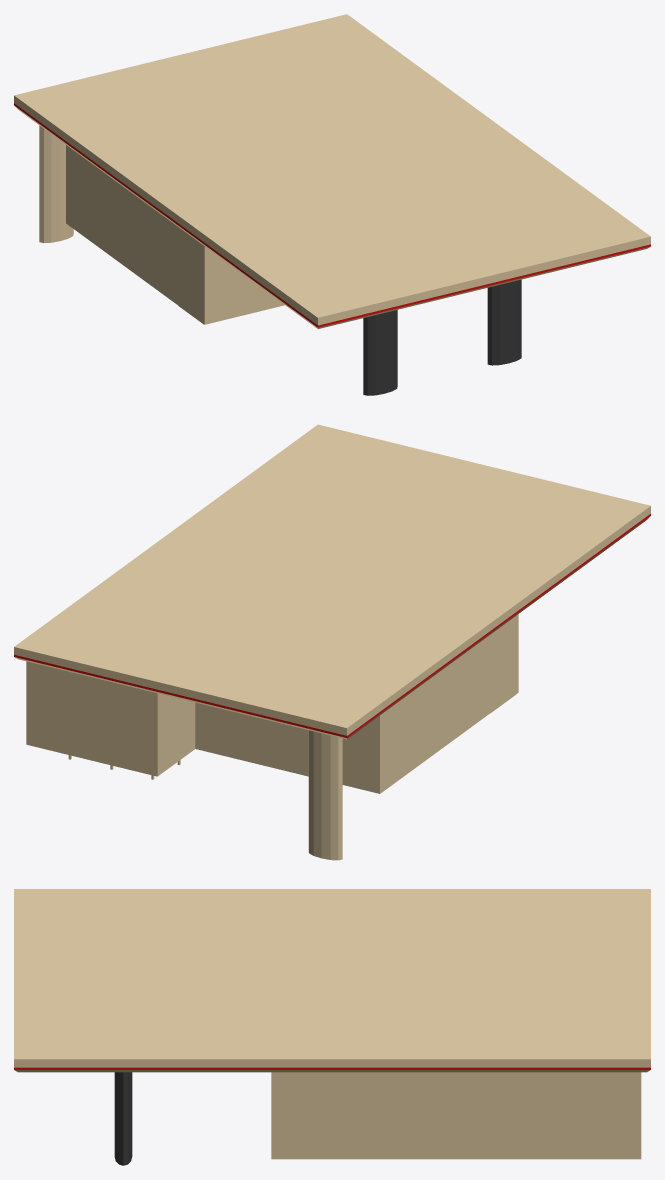
The model's file is station.glb.
3 renders of one model, top to bottom at view 1: azimuth 30°, elevation 25°; view 2: azimuth 150°, elevation 25°; view 3: azimuth 270°, elevation 25°, orthographic. The views are drawn at different scales.
Visible parts, largest first — view 1: roof, store, back beam, beam1, beam2; view 2: roof, store, back beam; view 3: roof, store, beam2.
Boxes of the visible parts, left/top/right/bottom form: roof: left=14, top=14, right=650, bottom=328; store: left=66, top=145, right=284, bottom=324; back beam: left=39, top=125, right=73, bottom=242; beam1: left=363, top=310, right=397, bottom=395; beam2: left=487, top=279, right=521, bottom=365; roof: left=14, top=424, right=650, bottom=739; store: left=26, top=614, right=518, bottom=793; back beam: left=308, top=730, right=342, bottom=860; roof: left=14, top=889, right=650, bottom=1072; store: left=271, top=1072, right=641, bottom=1159; beam2: left=114, top=1072, right=132, bottom=1165.
Size of the model in its own units: 96.5 by 39.5 by 153.
